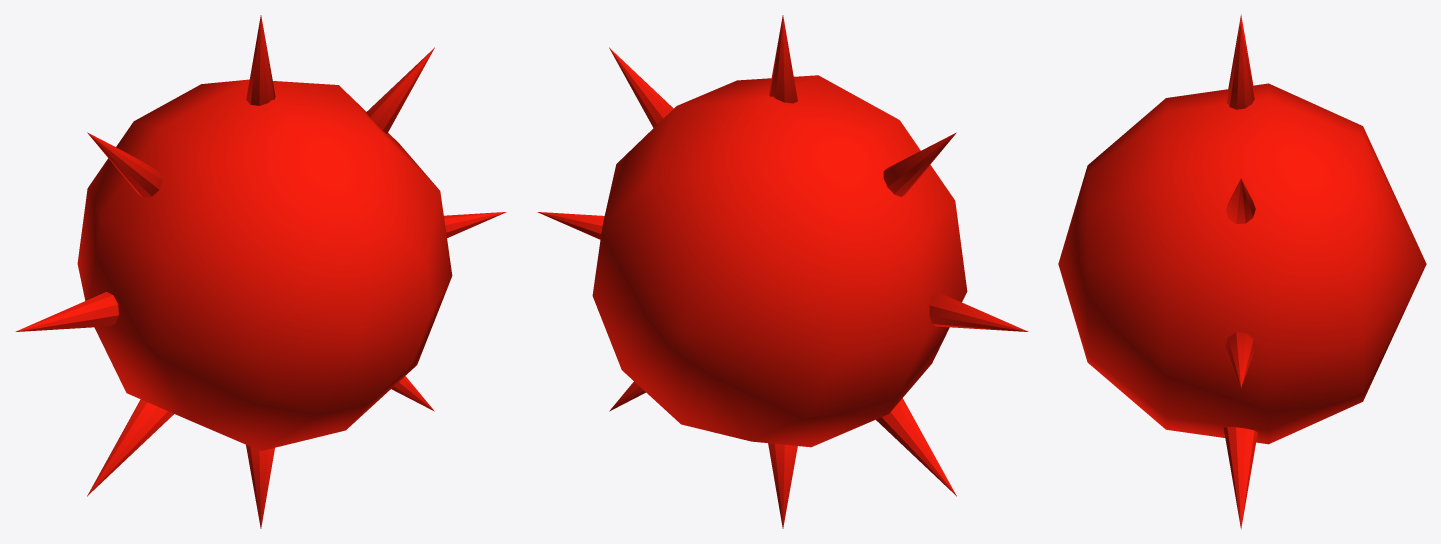
The model's file is bomb.obj.
3 views of the same model, side by side, from view 1: azimuth 30°, elevation 25°; view 2: azimuth 150°, elevation 25°; view 3: azimuth 270°, elevation 25° (orthographic). The views are drawn at different scales.
Parts seen in each view (by area): view 1: Sphere01, Cone06, Cone01, Cone02, Cone04, Cone03, Cone07, Cone05; view 2: Sphere01, Cone06, Cone01, Cone02, Cone03, Cone07, Cone04, Cone05; view 3: Sphere01, Cone09, Cone03, Cone05, Cone04.
Part boxes in pixels (<box>): Sphere01: <box>77,79,452,450</box>; Cone06: <box>87,399,173,496</box>; Cone01: <box>15,292,118,331</box>; Cone02: <box>87,132,162,197</box>; Cone04: <box>366,47,434,134</box>; Cone03: <box>246,15,275,105</box>; Cone07: <box>246,445,274,528</box>; Cone05: <box>444,212,506,238</box>; Sphere01: <box>592,75,967,447</box>; Cone06: <box>876,398,956,496</box>; Cone01: <box>929,291,1028,331</box>; Cone02: <box>883,132,956,196</box>; Cone03: <box>768,15,797,103</box>; Cone07: <box>768,443,797,528</box>; Cone04: <box>609,47,673,127</box>; Cone05: <box>537,212,604,239</box>; Sphere01: <box>1058,83,1426,444</box>; Cone09: <box>1223,427,1257,529</box>; Cone03: <box>1227,23,1254,109</box>; Cone05: <box>1225,332,1256,387</box>; Cone04: <box>1225,178,1255,224</box>.
Bounding box in the file's own units: 103 × 103 × 69.06.
